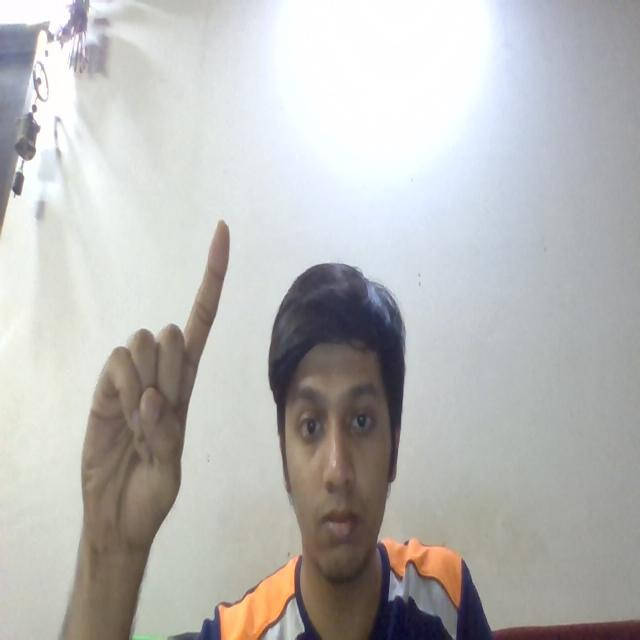Z: (63, 202, 245, 591)
